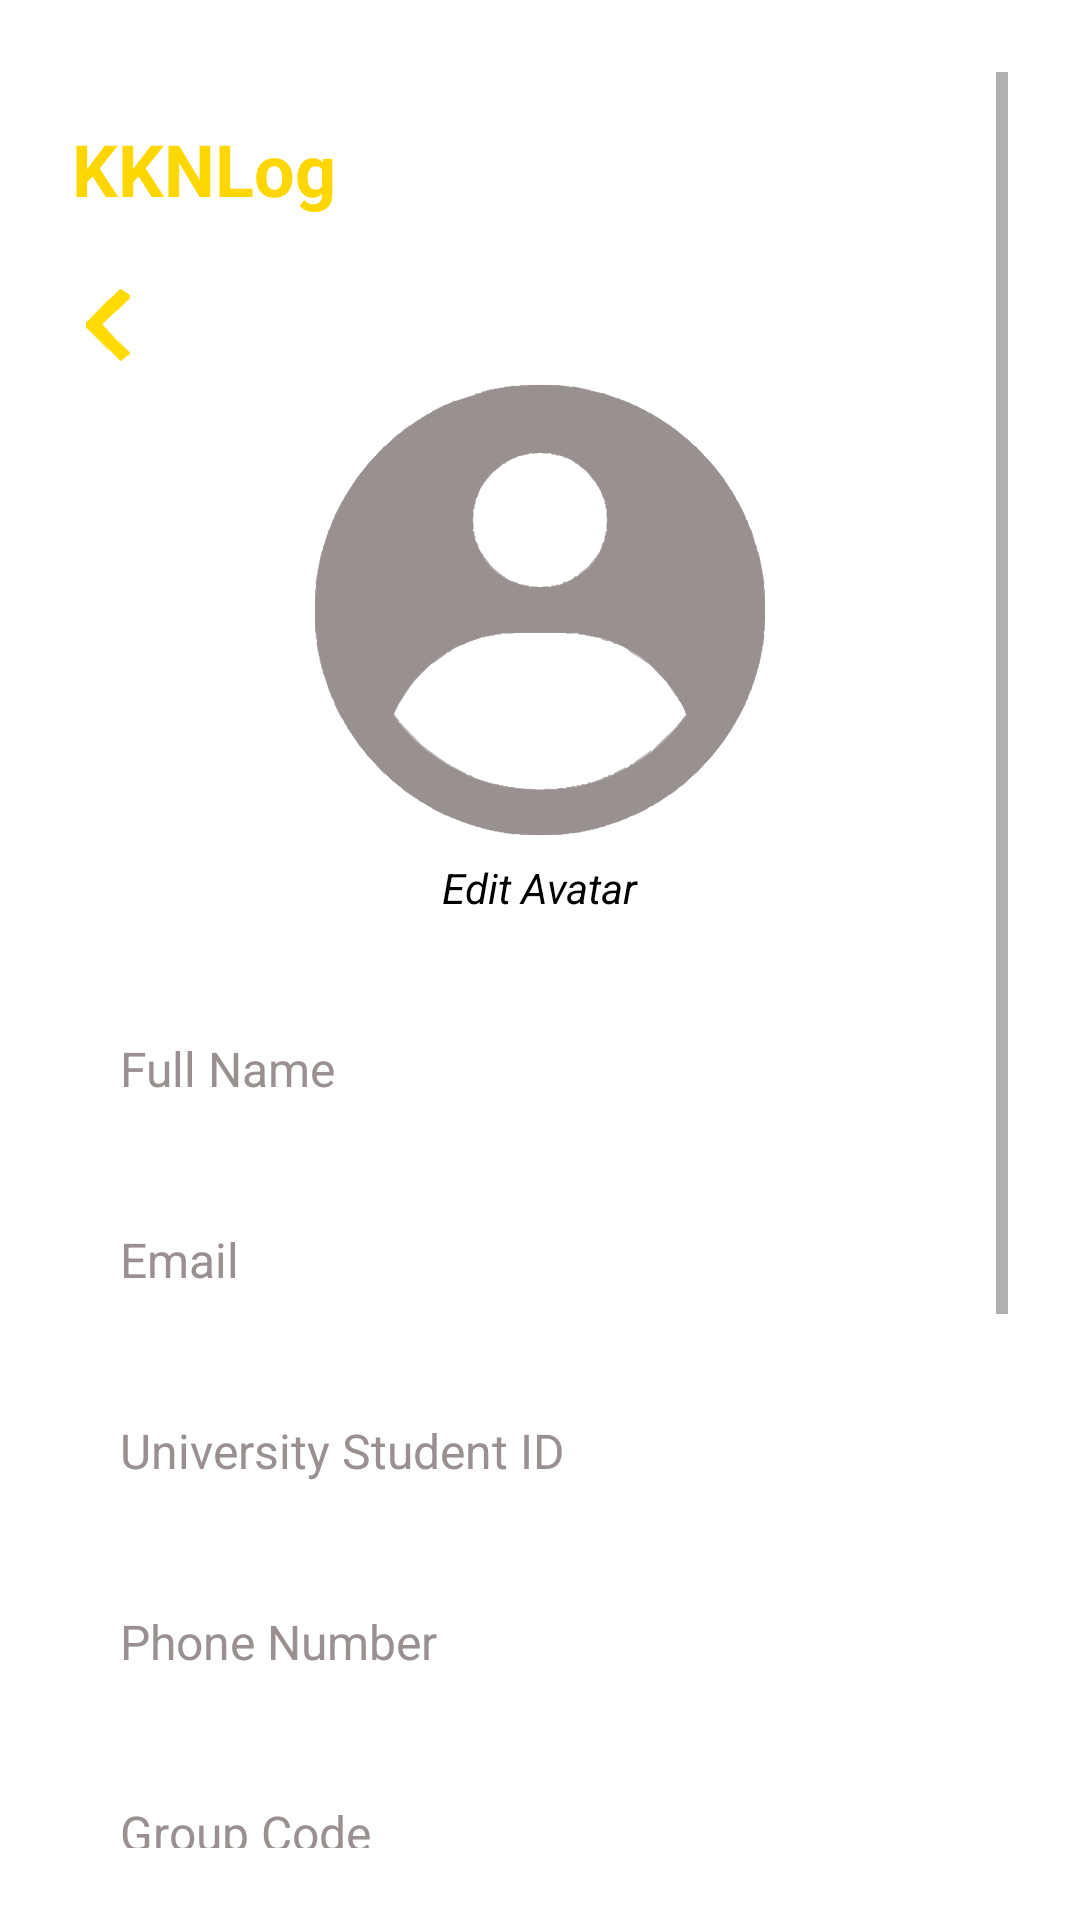

Icons on this 1080x1920 Android screen, each with its box as {"x1": x1, "y1": y1, "x2": x2, "y2": y2}:
back arrow: {"x1": 86, "y1": 289, "x2": 130, "y2": 361}
